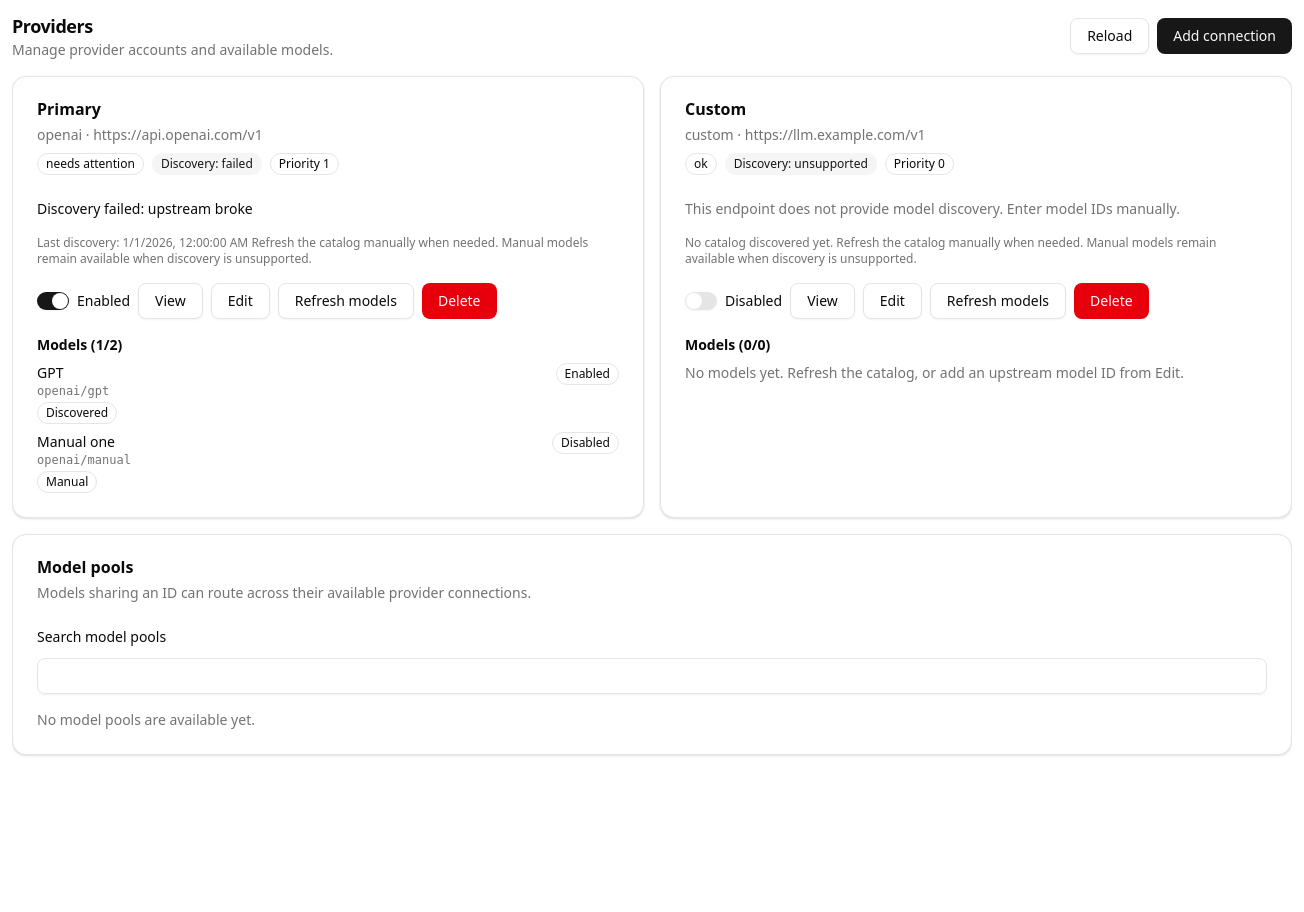
Test: ProvidersPanel confirmations › keeps a failed delete inline in the dialog and closes on cancel
This screenshot has width=1304, height=912.
Expected: the text "Primary" is shown, top-left (37, 98), bottom-right (101, 120)
What coordinates should you click on to do the following:
click the button "Delete" below "No catalog discovered yet."
I would click on:
 (1111, 301)
Its box is top-left (1074, 283), bottom-right (1149, 319).
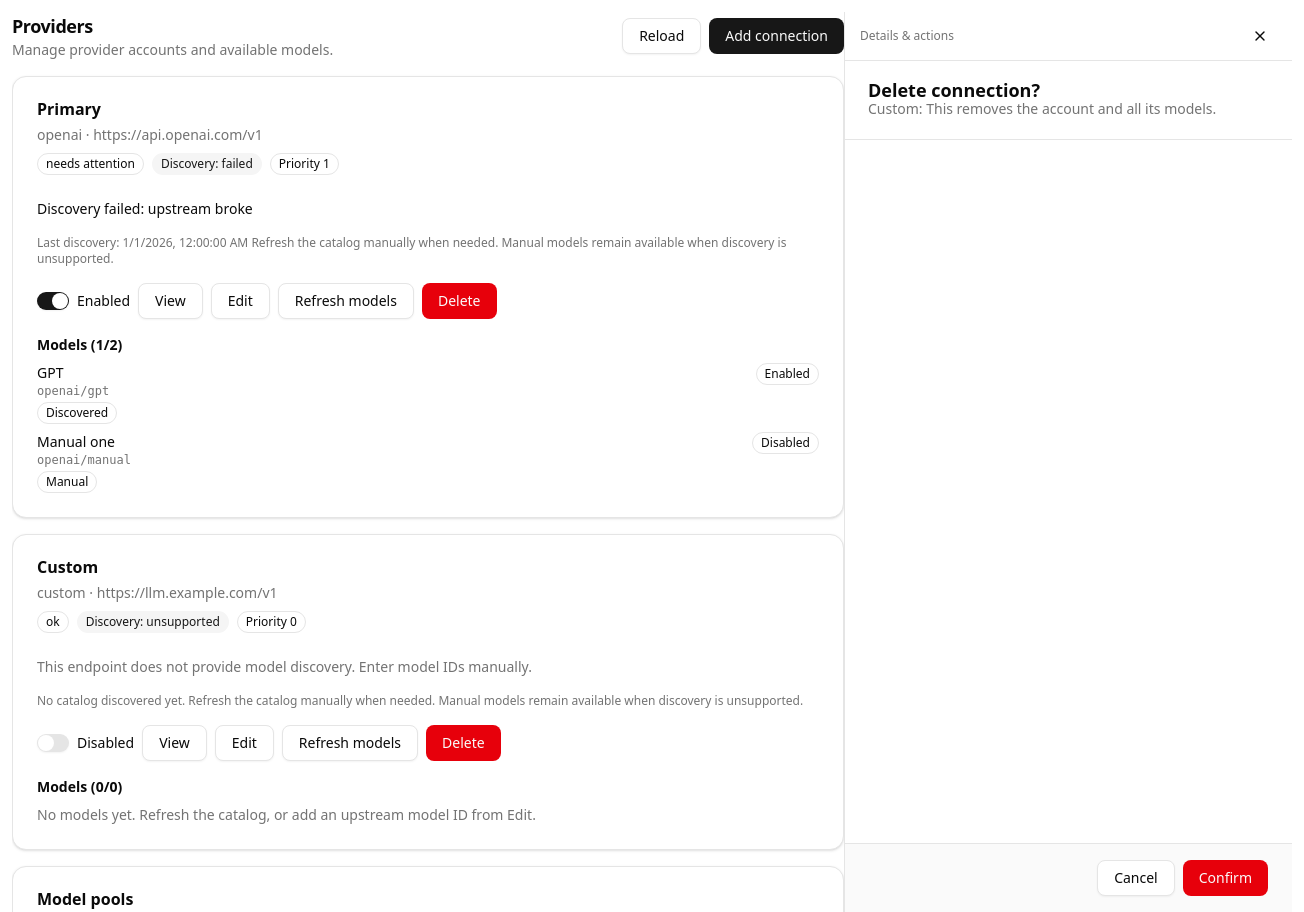
What coordinates should you click on to do the following:
click the button "Confirm"
I would click on:
 (1225, 878)
Its box is top-left (1183, 860), bottom-right (1268, 896).
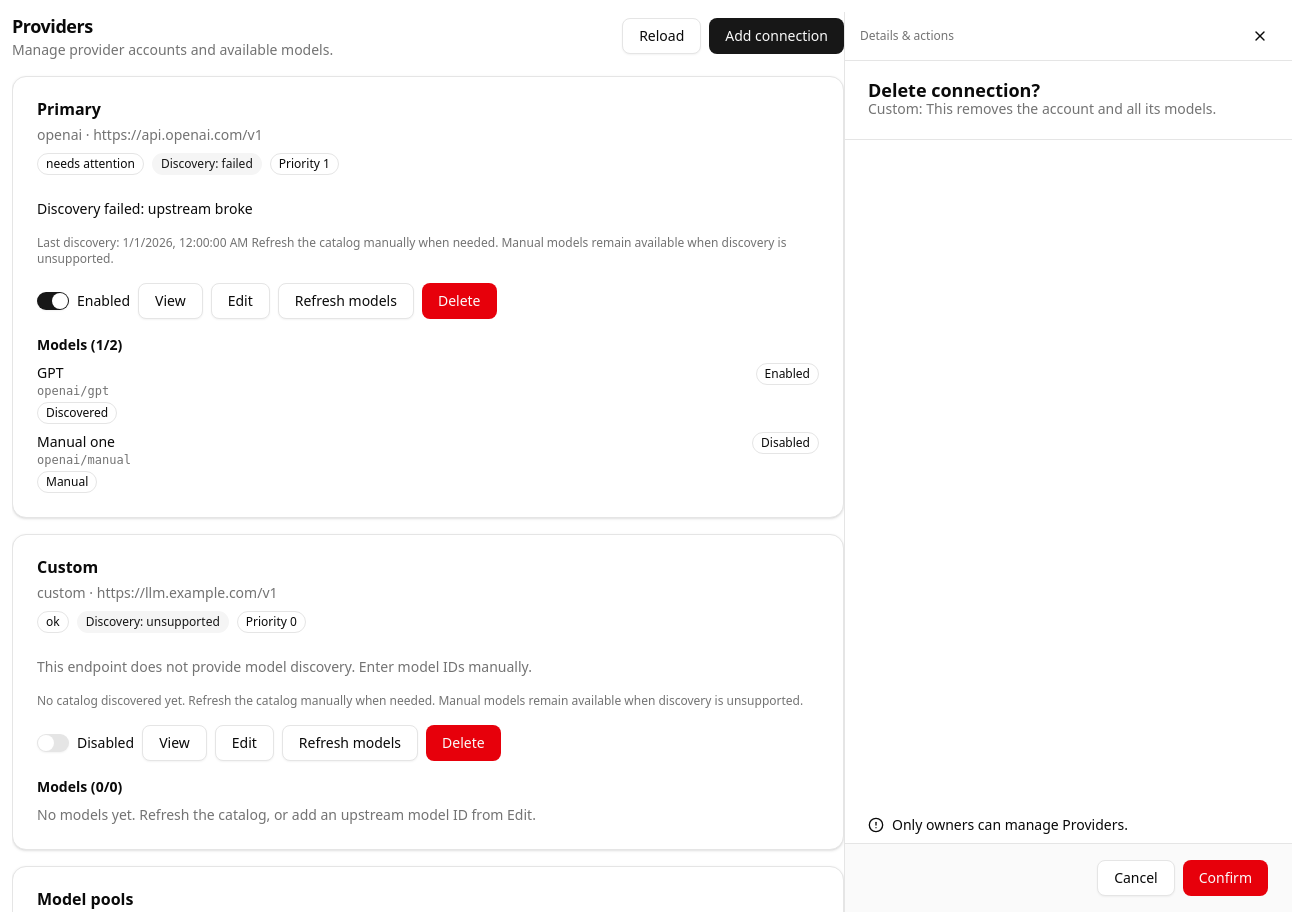
Expected: the text "Only owners can manage Providers." is shown, top-left (892, 815), bottom-right (1128, 835)
What coordinates should you click on to do the following:
click the button "Cancel"
I would click on:
 (1136, 878)
Its box is top-left (1097, 860), bottom-right (1175, 896).
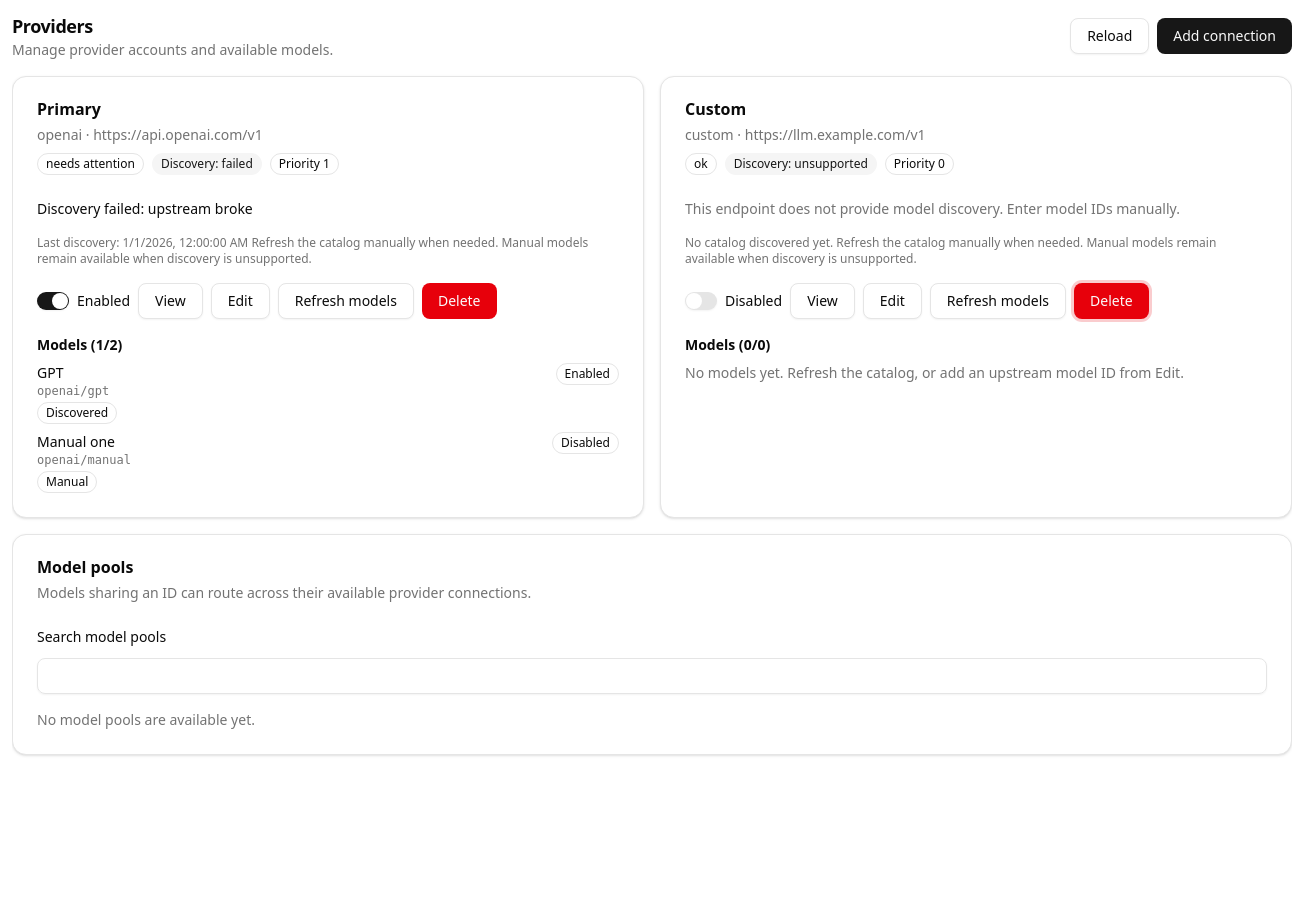
Expected: the heading "Delete connection?" is gone
